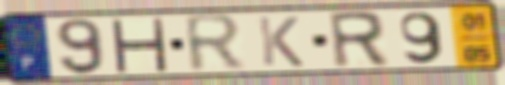9: (56, 17, 106, 76), (398, 10, 446, 66)
H: (107, 17, 170, 73)
K: (255, 15, 307, 69)
R: (181, 12, 248, 76), (325, 10, 393, 71)
